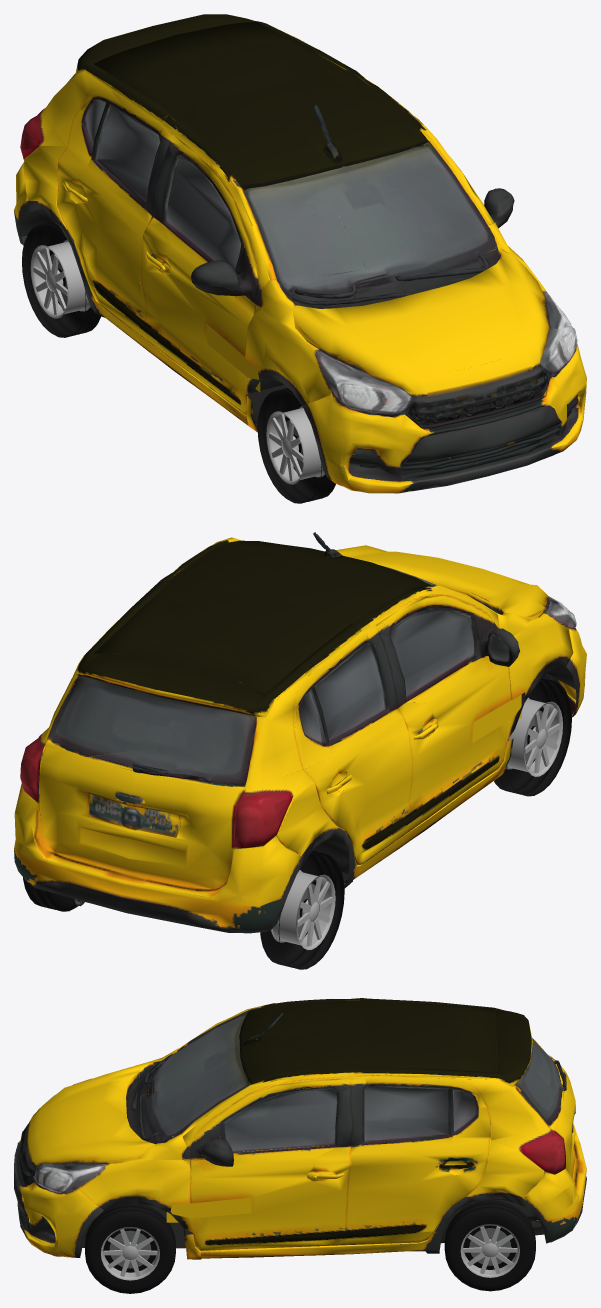
File: carro-2.glb
3 renders of one model, top to bottom at view 1: azimuth 30°, elevation 25°; view 2: azimuth 150°, elevation 25°; view 3: azimuth 270°, elevation 25°, orthographic. The views are drawn at different scales.
Parts seen in each view (by area): view 1: Frota_car, Tyre_Rear_L, Tyre_Front_L; view 2: Frota_car, Tyre_Rear_L, Tyre_Front_L, Tyre_Rear_R; view 3: Frota_car, Tyre_Rear_R, Tyre_Front_R.
Boxes of the visible parts, <box> form: Frota_car: <box>14,14,586,493</box>; Tyre_Rear_L: <box>22,221,101,337</box>; Tyre_Front_L: <box>257,388,335,503</box>; Frota_car: <box>14,532,586,933</box>; Tyre_Rear_L: <box>260,850,344,969</box>; Tyre_Front_L: <box>494,678,571,796</box>; Tyre_Rear_R: <box>23,877,78,911</box>; Frota_car: <box>14,998,586,1259</box>; Tyre_Rear_R: <box>444,1200,535,1291</box>; Tyre_Front_R: <box>85,1203,175,1293</box>.
Size of the model in its own units: 2.14 by 1.87 by 4.2.
1 material, 1 textured.
